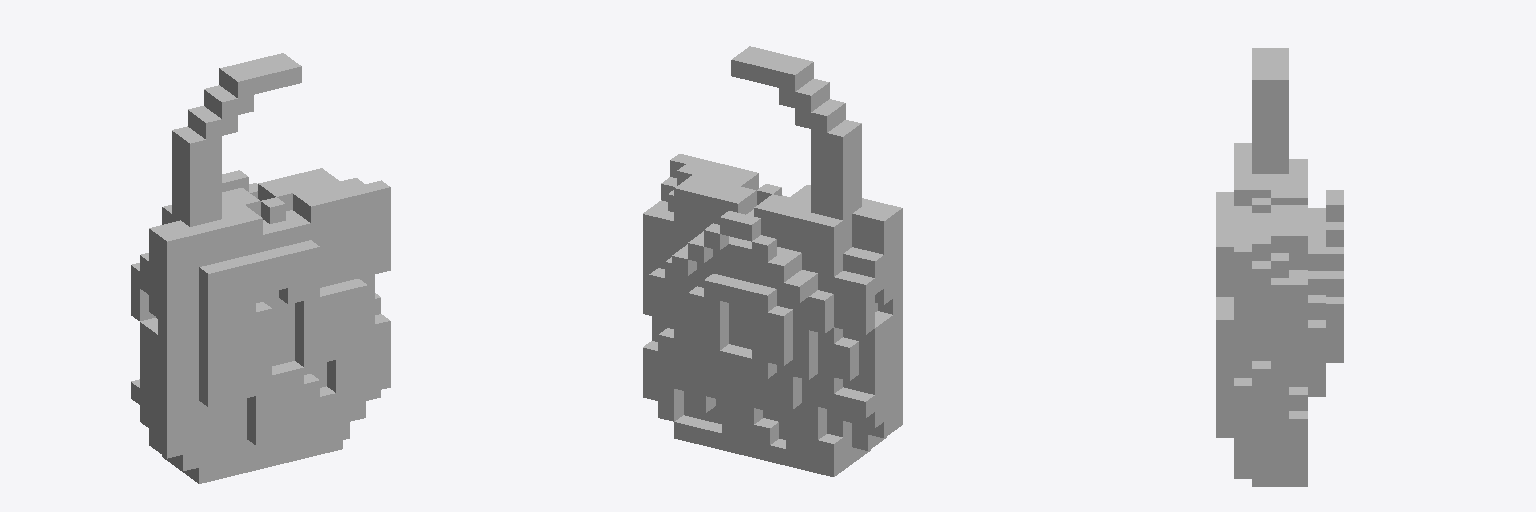
Rendered from Candado Fase 3.obj.
The picture shows the model from 3 angles: view 1: azimuth 30°, elevation 25°; view 2: azimuth 150°, elevation 25°; view 3: azimuth 270°, elevation 25°; orthographic projection.
Visible parts, largest first — view 1: object 1; view 2: object 1; view 3: object 1.
Boxes of the visible parts, <box> form: object 1: <box>131,53,390,483</box>; object 1: <box>643,46,902,476</box>; object 1: <box>1216,48,1343,486</box>.
Size of the model in its own units: 1.4 by 2.3 by 0.7.